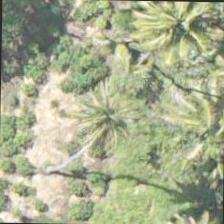Kelapa_Sawit: (135, 0, 223, 64)
